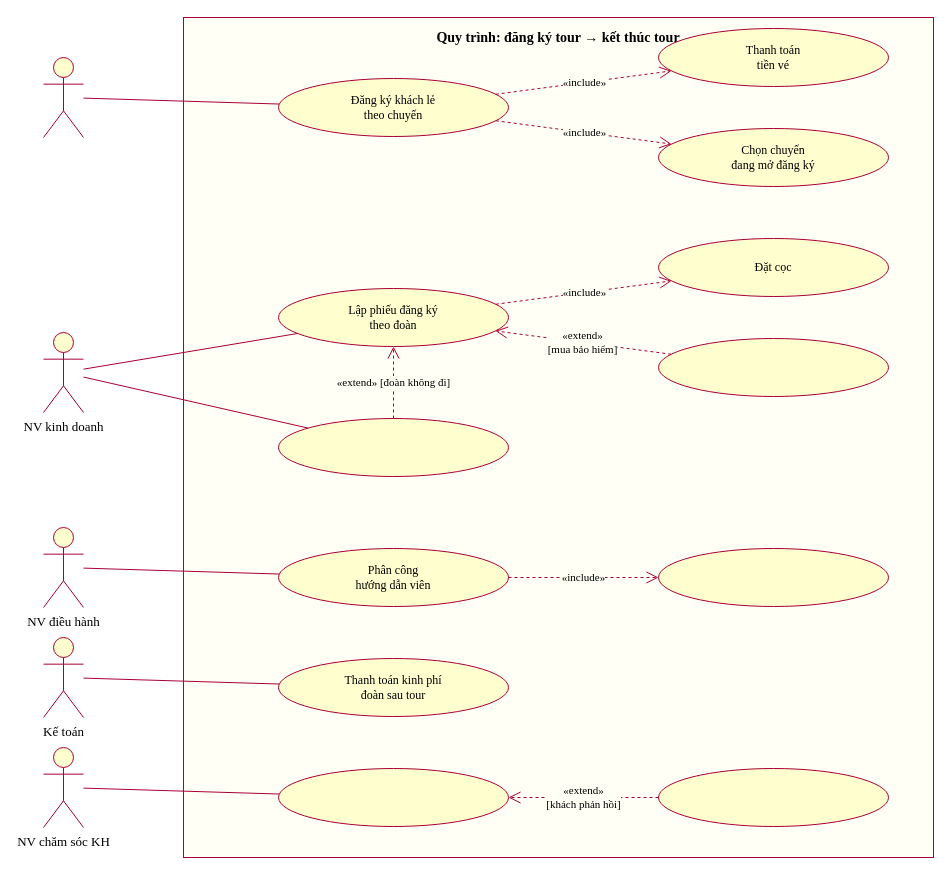
The diagram is 951 pixels wide and 875 high, and some of its shapes have lost their labels. Each missing label, with the centre of its shape:
Ghi nhận góp ý: point 773,797
Gửi phiếu khảo sát: point 393,797
Hủy đăng ký (mất cọc): point 393,447
Kiểm tra trùng lịch HDV: point 773,577
Nhập danh sách người cùng đi: point 773,367
NV bán vé: point 63,97
